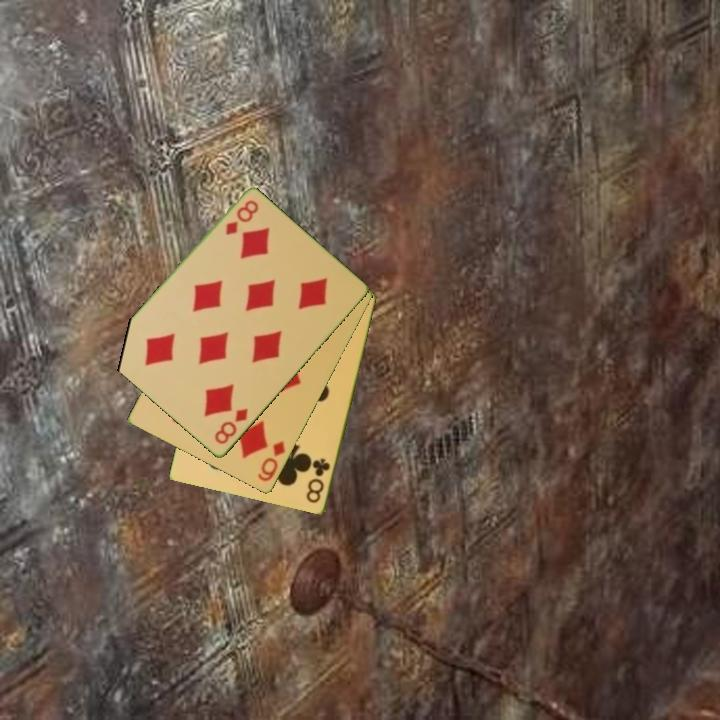6d: (254, 437, 288, 485)
8c: (303, 455, 333, 506)
8d: (211, 405, 251, 448), (222, 196, 262, 239)
